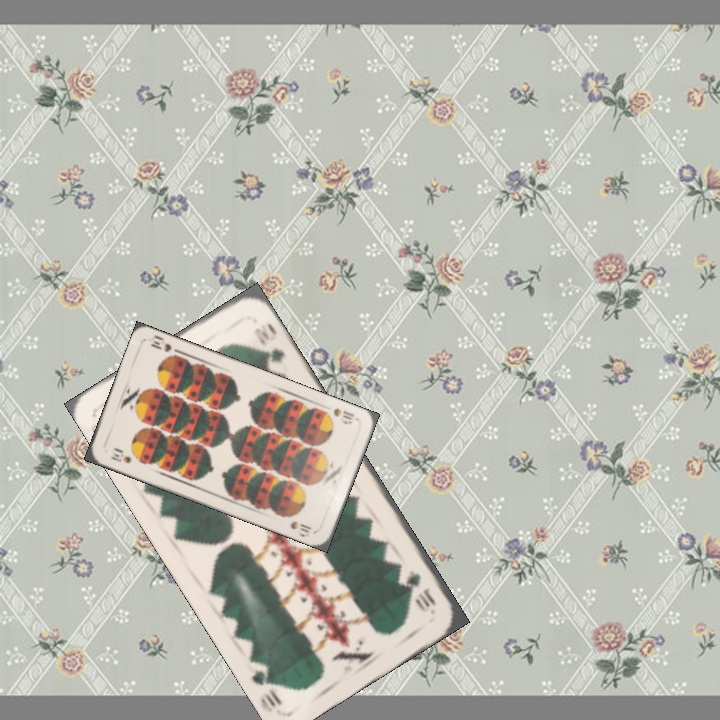G10: (402, 566, 439, 612)
S10: (329, 404, 357, 426), (107, 445, 134, 466)
